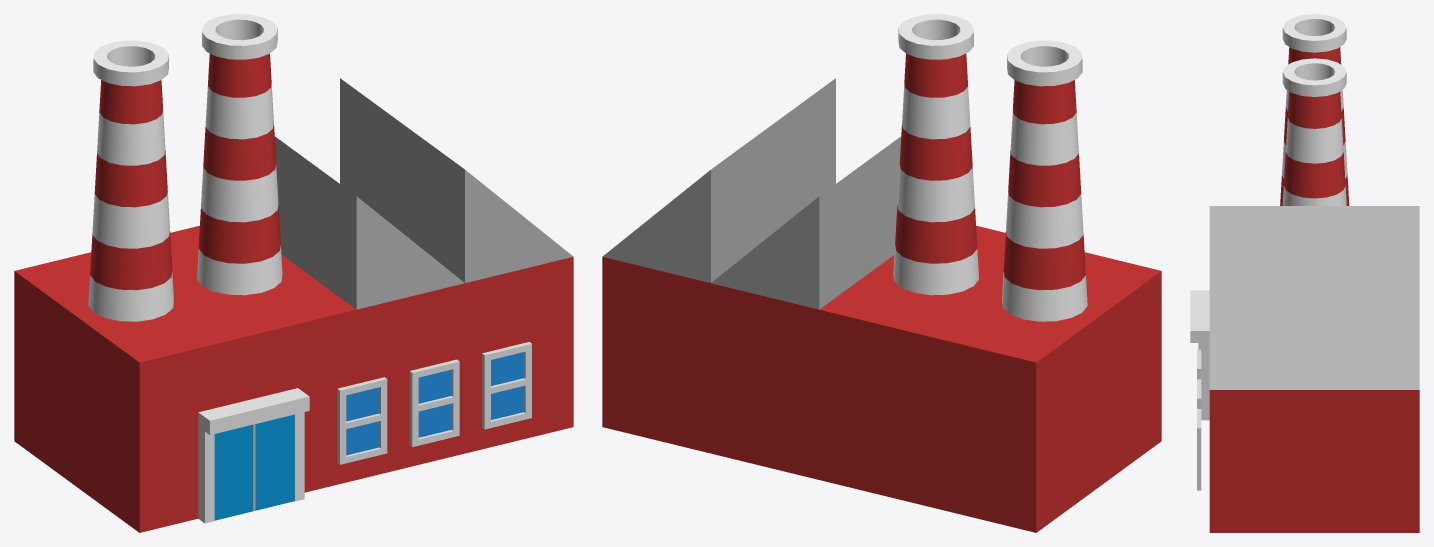
The model's file is factory.glb.
The picture shows the model from 3 angles, left to right: view 1: azimuth 30°, elevation 25°; view 2: azimuth 150°, elevation 25°; view 3: azimuth 270°, elevation 25°; orthographic projection. The views are drawn at different scales.
Visible parts, largest first — view 1: Cube.496; view 2: Cube.496; view 3: Cube.496.
Part boxes in pixels (left/top/right/bottom): Cube.496: left=14, top=14, right=573, bottom=532; Cube.496: left=602, top=14, right=1161, bottom=532; Cube.496: left=1190, top=14, right=1419, bottom=532.
Size of the model in its own units: 2.16 by 1.99 by 1.18.
1 material, 1 textured.
